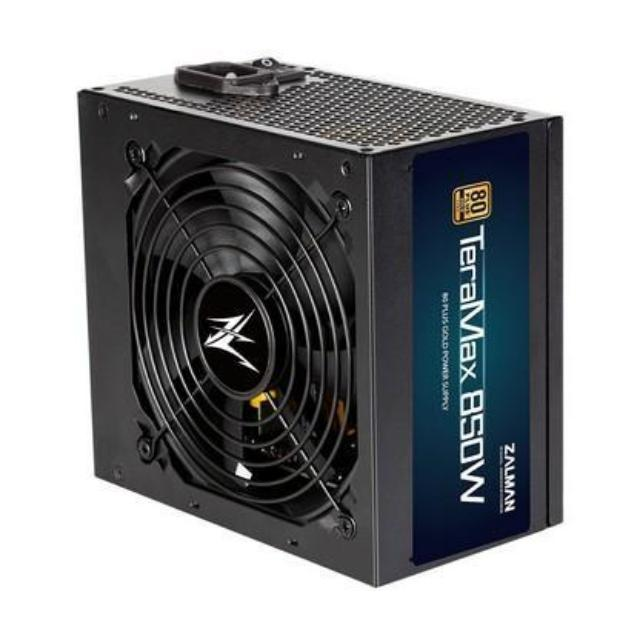PSU: (73, 42, 579, 596)
